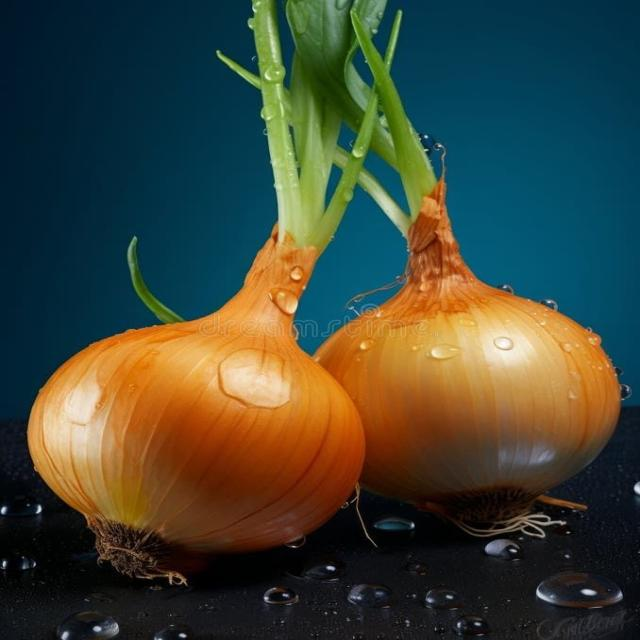sprouting: (81, 4, 371, 640)
